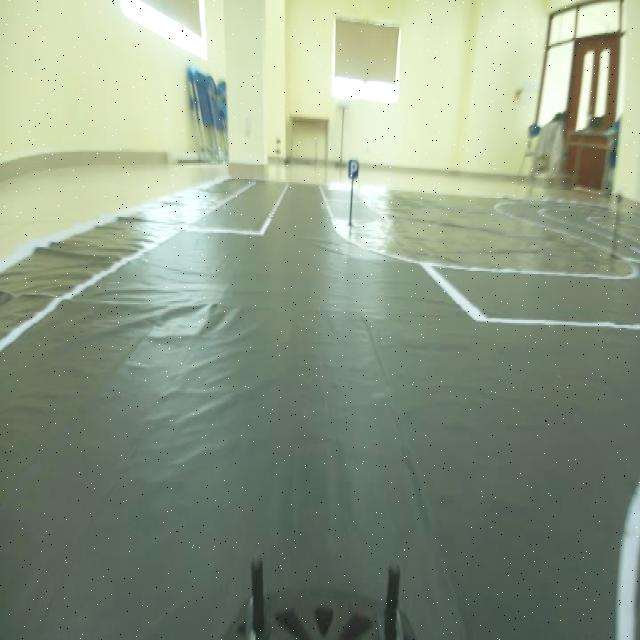parking: (346, 150, 360, 183)
